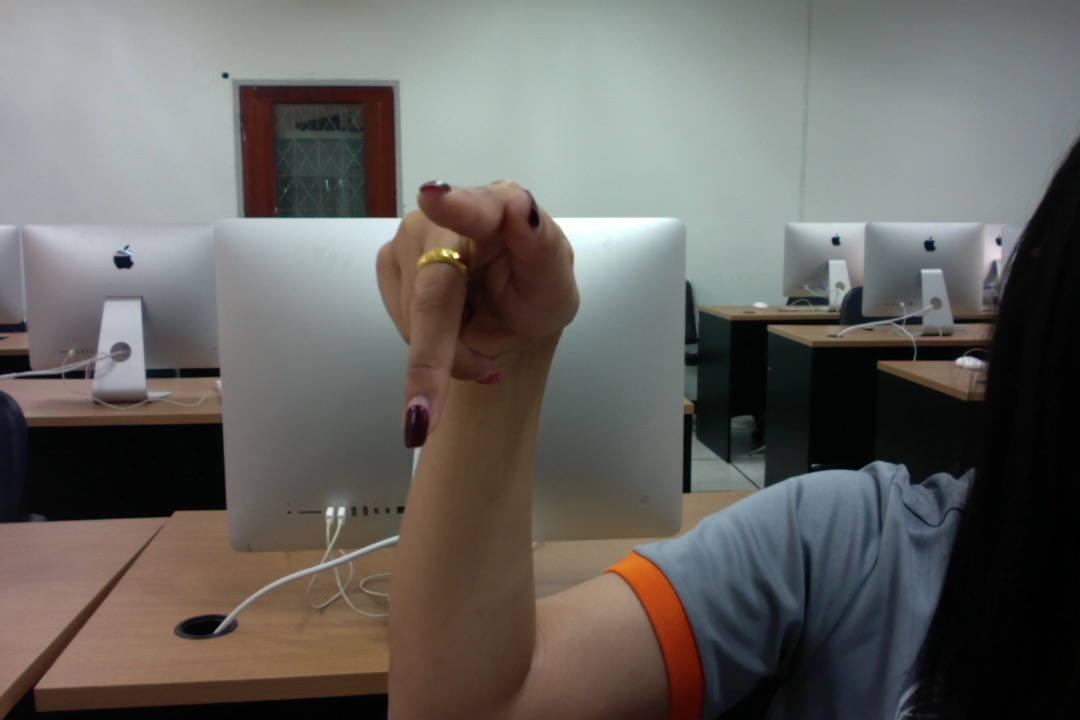por: (368, 156, 587, 453)
